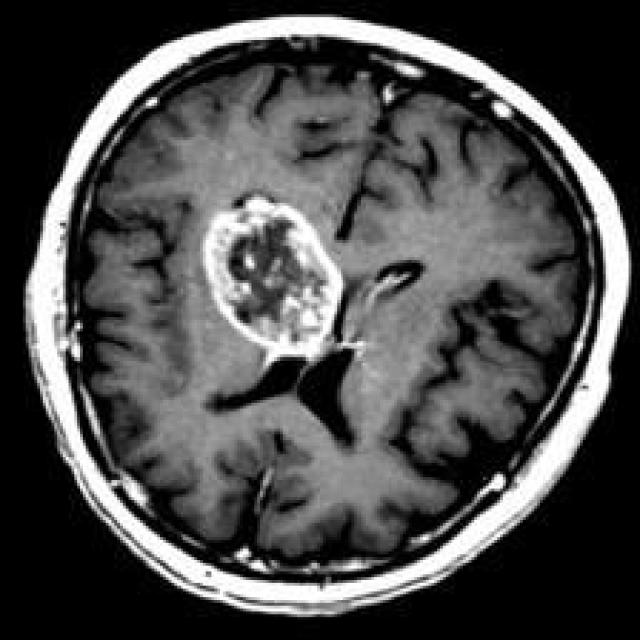Tumor: (203, 197, 346, 364)
